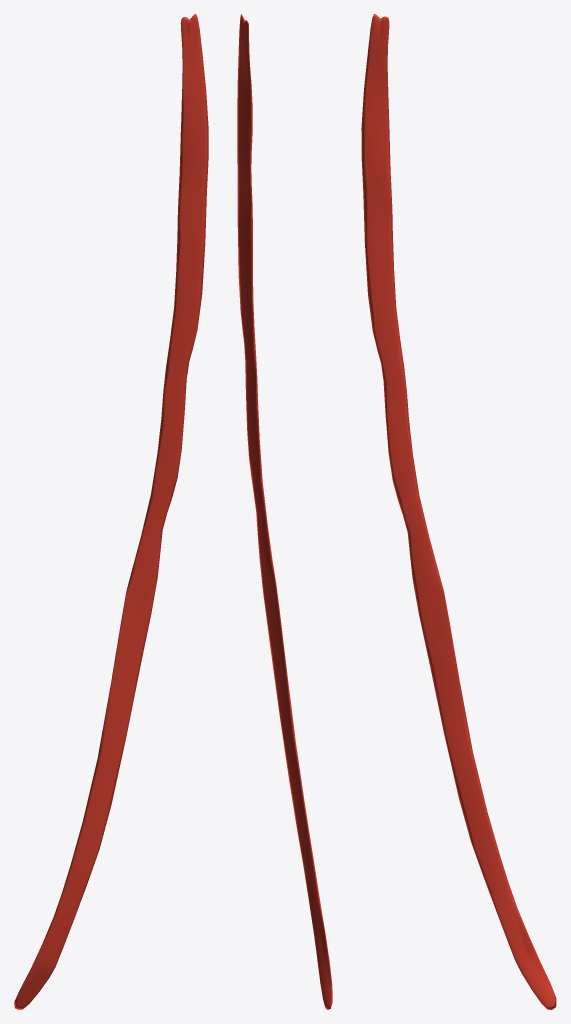
Rendered from Abdominal_muscles_insertions.glb.
3 renders of one model, left to right at view 1: azimuth 90°, elevation 25°; view 2: azimuth 210°, elevation 25°; view 3: azimuth 270°, elevation 25°, orthographic. The views are drawn at different scales.
Visible parts, largest first — view 1: Ext._and_int._abd._oblique,_transv._and_rectus_abd.-_Insert_; view 2: Ext._and_int._abd._oblique,_transv._and_rectus_abd.-_Insert_; view 3: Ext._and_int._abd._oblique,_transv._and_rectus_abd.-_Insert_.
Boxes of the visible parts, x1,y1,x2,y2 form: Ext._and_int._abd._oblique,_transv._and_rectus_abd.-_Insert_: [14, 14, 208, 1009]; Ext._and_int._abd._oblique,_transv._and_rectus_abd.-_Insert_: [237, 14, 332, 1009]; Ext._and_int._abd._oblique,_transv._and_rectus_abd.-_Insert_: [361, 14, 556, 1009].
Size of the model in its own units: 0.00605 by 0.3919 by 0.0694.
